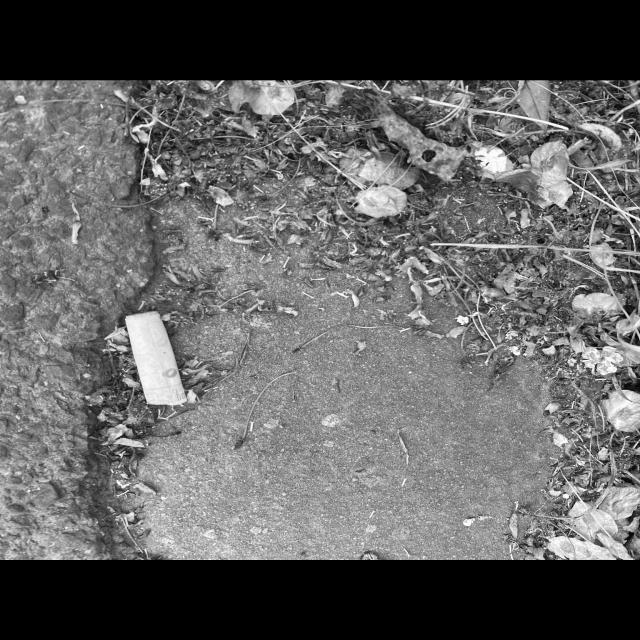other waste: (124, 310, 188, 406)
